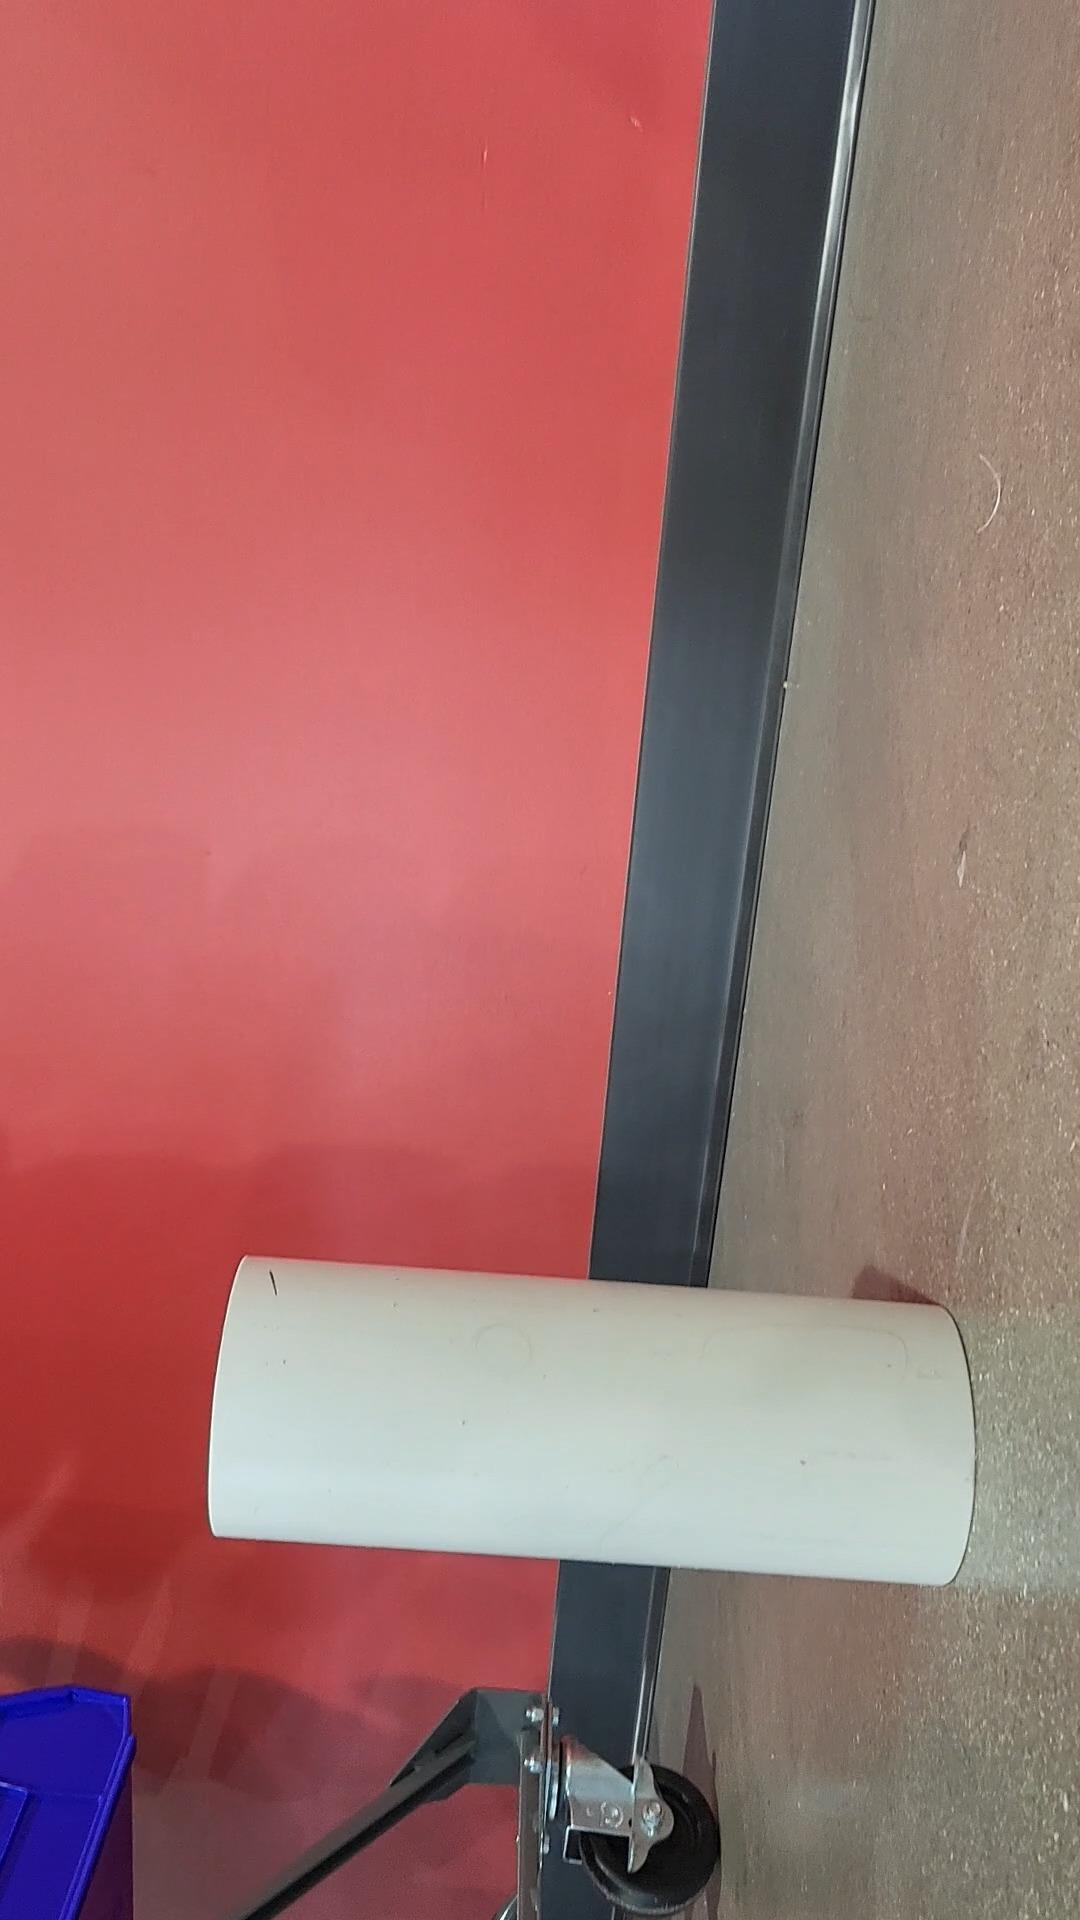coral: (203, 1251, 977, 1600)
